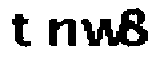8: (122, 5, 150, 48)
n: (43, 14, 77, 51)
t: (7, 8, 35, 52)
w: (78, 17, 123, 50)
